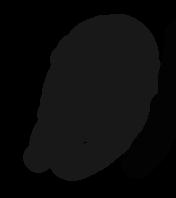fp: (13, 7, 165, 180)
